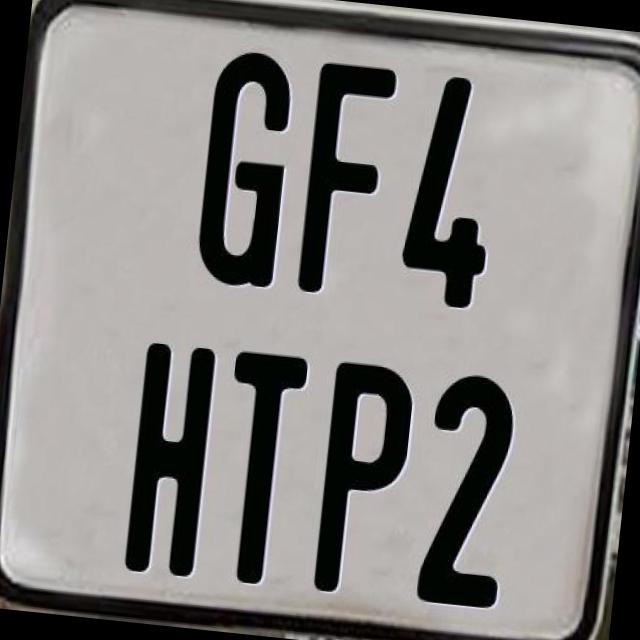2: (412, 368, 523, 614)
4: (393, 70, 508, 312)
F: (292, 59, 396, 303)
G: (190, 45, 294, 292)
H: (120, 338, 220, 582)
P: (311, 358, 413, 596)
T: (210, 344, 308, 586)
